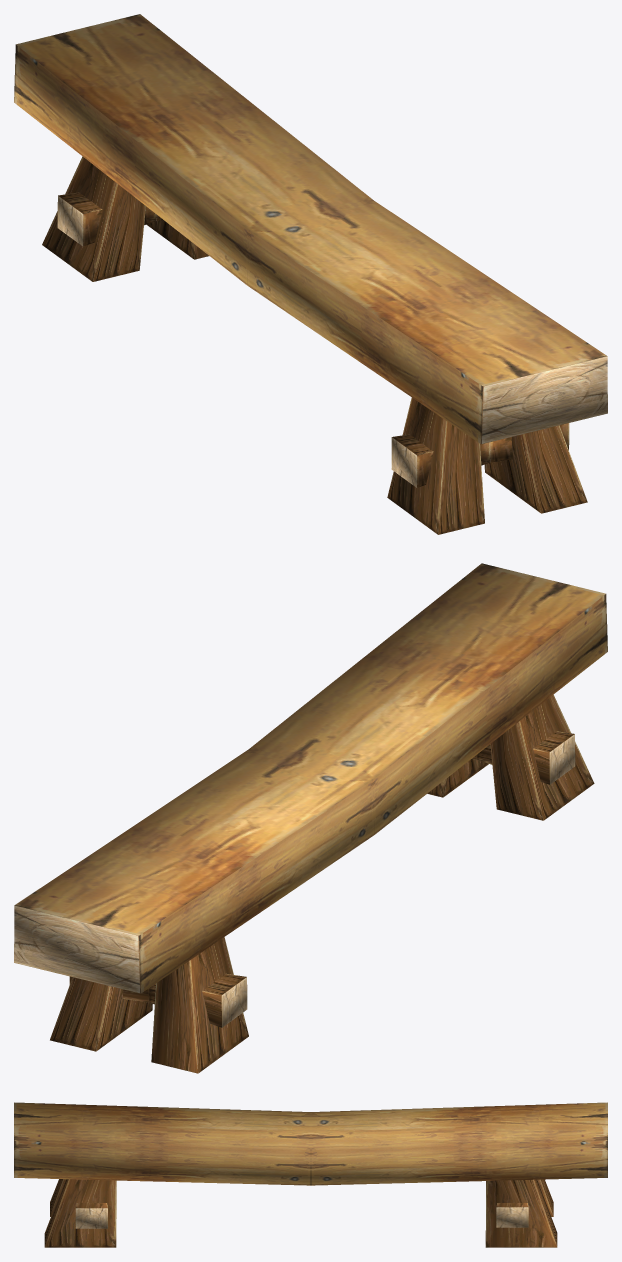
File: innbench.glb
3 views of the same model, one above another, from view 1: azimuth 30°, elevation 25°; view 2: azimuth 150°, elevation 25°; view 3: azimuth 270°, elevation 25° (orthographic). The views are drawn at different scales.
Bounding box in the file's own units: 0.8077 × 0.8188 × 4.2.
1 material, 1 textured.
